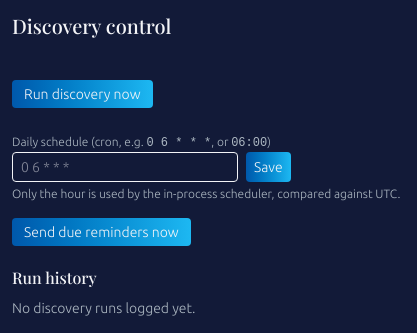
Scenario: DiscoveryPage › saves the schedule via POST and shows Saved on success
Expected: the text "No discovery runs logged yet." is shown, [12,300,196,316]
Type "0 7 * * *" into the field with placeholder "0 6 * * *" at (125, 167), box [12,152,238,182]
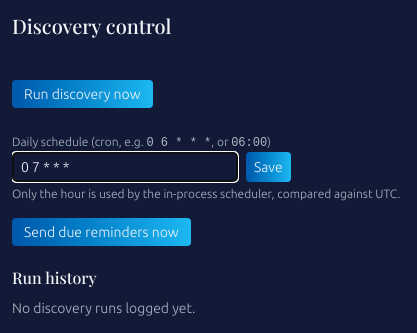
Click the button "Save" at (268, 167), box [246,152,291,182]
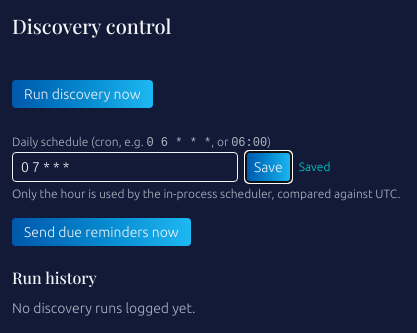
Result: the text "Saved" is shown at [299,159,330,175]
